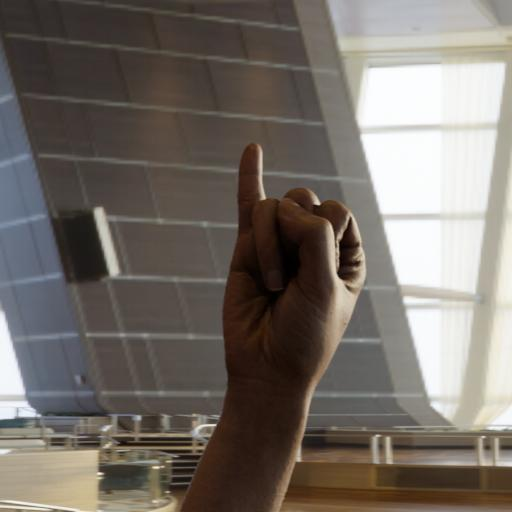I: (216, 127, 382, 404)
